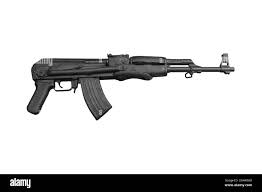gun: (26, 52, 235, 121)
